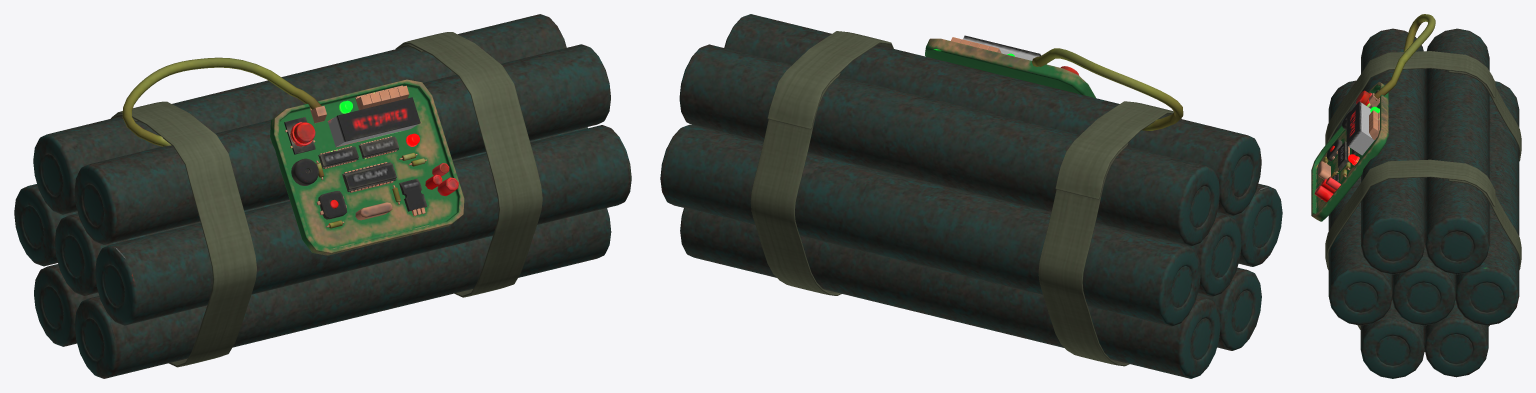
File: time_bomb.glb
3 views of the same model, side by side, from view 1: azimuth 30°, elevation 25°; view 2: azimuth 150°, elevation 25°; view 3: azimuth 270°, elevation 25° (orthographic). The views are drawn at different scales.
Parts seen in each view (by area): view 1: pCylinder32, polySurface43, pPlane4, pPlane5, pCylinder33, pCube28, pCube30, pCylinder28, polySurface45, pCube29, pCube24, pCylinder25 (+1 smaller); view 2: pCylinder32, pPlane4, pPlane5, polySurface43, pCylinder33, pCube28; view 3: pCylinder32, pPlane4, pPlane5, polySurface43, pCylinder33, pCube28, pCube30, pCube27, pCylinder28.
Part boxes in pixels (x1=…): pCylinder32: x1=14, y1=14, x2=631, y2=378; polySurface43: x1=270, y1=79, x2=464, y2=255; pPlane4: x1=395, y1=32, x2=542, y2=297; pPlane5: x1=111, y1=101, x2=256, y2=367; pCylinder33: x1=122, y1=57, x2=321, y2=146; pCube28: x1=327, y1=97, x2=420, y2=147; pCube30: x1=342, y1=162, x2=396, y2=192; pCylinder28: x1=284, y1=117, x2=315, y2=154; polySurface45: x1=399, y1=178, x2=427, y2=216; pCube29: x1=318, y1=146, x2=358, y2=168; pCube24: x1=358, y1=136, x2=399, y2=159; pCylinder25: x1=291, y1=158, x2=318, y2=185; pCylinder32: x1=660, y1=14, x2=1282, y2=378; pPlane4: x1=750, y1=31, x2=893, y2=295; pPlane5: x1=1038, y1=101, x2=1181, y2=366; polySurface43: x1=925, y1=38, x2=1095, y2=97; pCylinder33: x1=1032, y1=48, x2=1183, y2=130; pCube28: x1=963, y1=35, x2=1041, y2=60; pCylinder32: x1=1328, y1=28, x2=1519, y2=378; pPlane4: x1=1325, y1=159, x2=1521, y2=351; pPlane5: x1=1325, y1=51, x2=1521, y2=161; polySurface43: x1=1311, y1=82, x2=1388, y2=221; pCylinder33: x1=1374, y1=14, x2=1435, y2=100; pCube28: x1=1346, y1=101, x2=1374, y2=155; pCube30: x1=1338, y1=141, x2=1349, y2=170; pCube27: x1=1318, y1=161, x2=1330, y2=179; pCylinder28: x1=1356, y1=90, x2=1378, y2=108.
Bounding box in the file's own units: 0.1665 × 0.0889 × 0.0777.
1 material, 1 textured.
